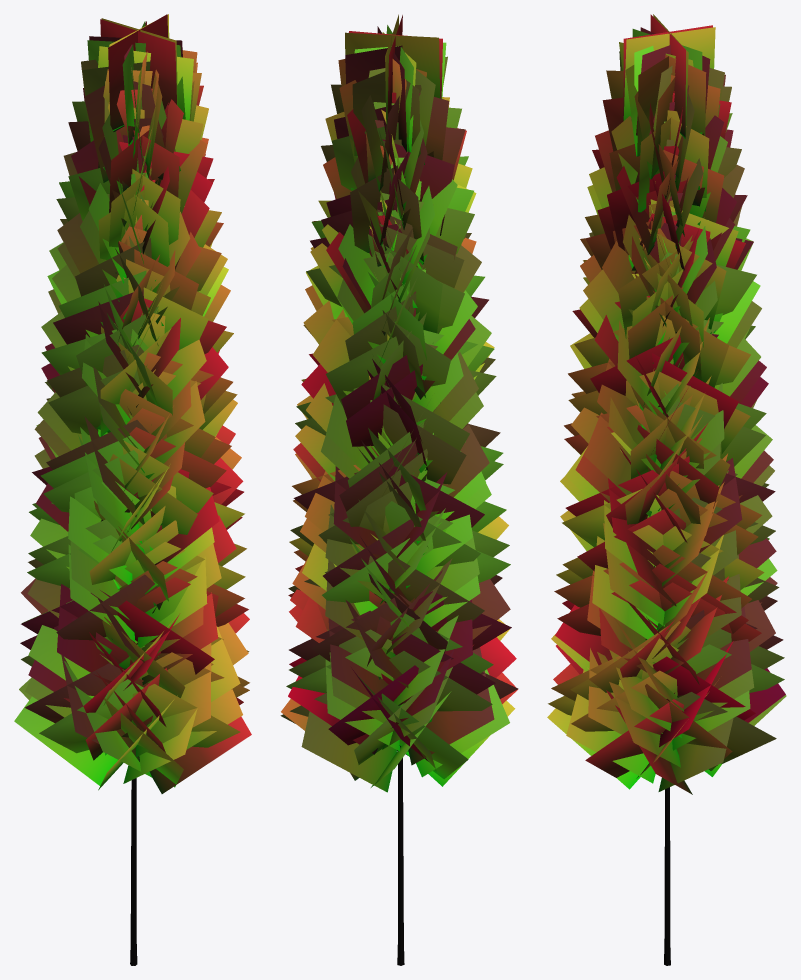
File: URP_P4_Tree_4_LOD_1.fbx
3 views of the same model, side by side, from view 1: azimuth 30°, elevation 25°; view 2: azimuth 150°, elevation 25°; view 3: azimuth 270°, elevation 25° (orthographic).
Parts seen in each view (by area): view 1: Tree_4_LOD_1; view 2: Tree_4_LOD_1; view 3: Tree_4_LOD_1.
Boxes of the visible parts, left/top/right/bottom form: Tree_4_LOD_1: left=14, top=14, right=251, bottom=965; Tree_4_LOD_1: left=280, top=14, right=518, bottom=965; Tree_4_LOD_1: left=547, top=14, right=786, bottom=965.
Bounding box in the file's own units: 213 × 917 × 213.
